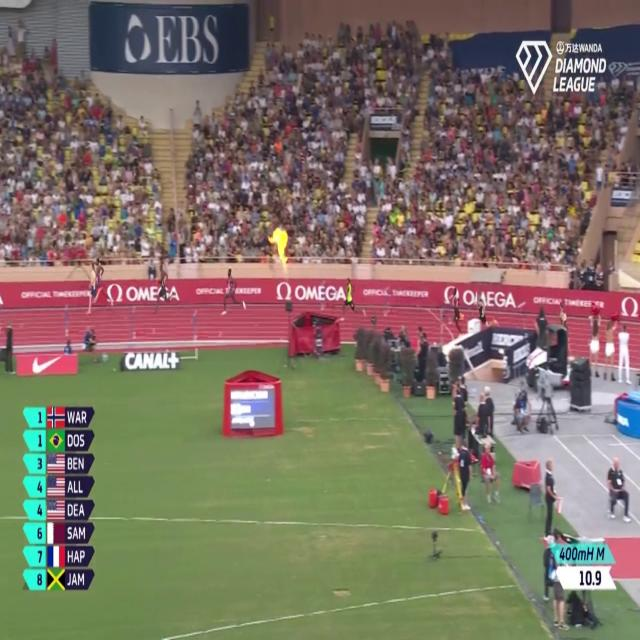athlete: (219, 266, 248, 326), (444, 284, 468, 348), (342, 277, 368, 332), (154, 256, 174, 325), (85, 260, 100, 321), (93, 250, 109, 306), (476, 294, 495, 338)
hurdle: (126, 295, 142, 354), (58, 294, 76, 343), (188, 294, 202, 342)
